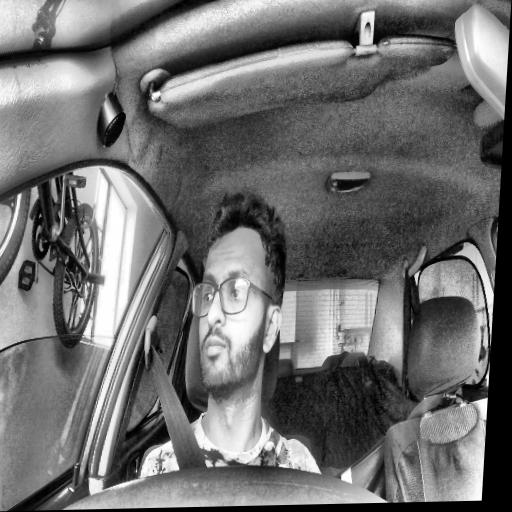awake: (185, 188, 291, 398)
